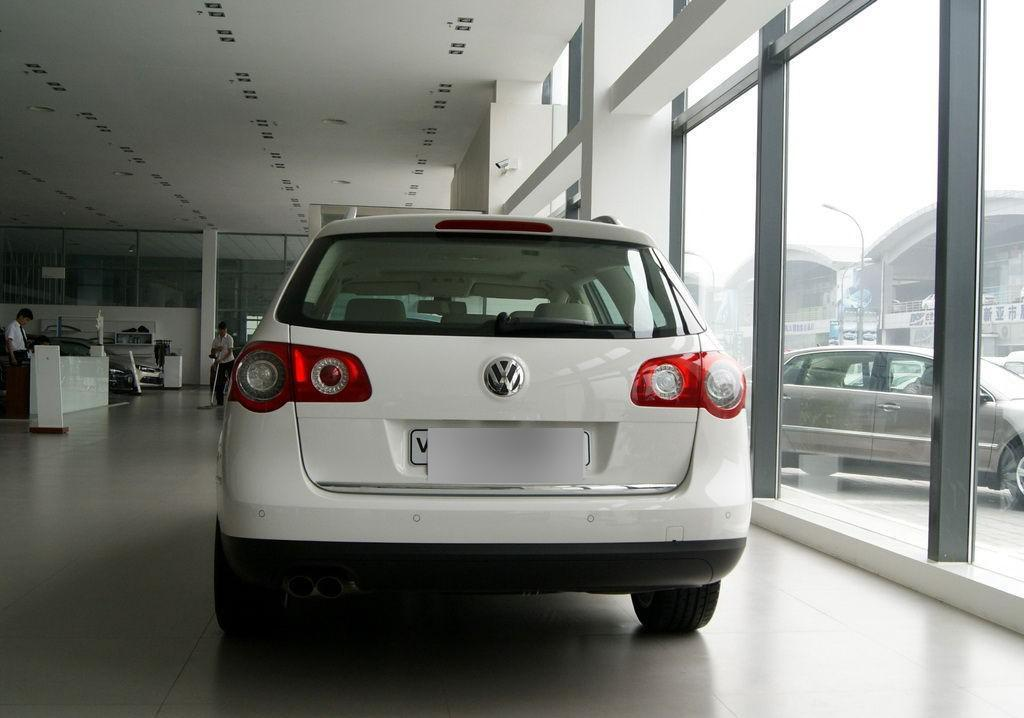Wagon: (214, 209, 752, 631)
